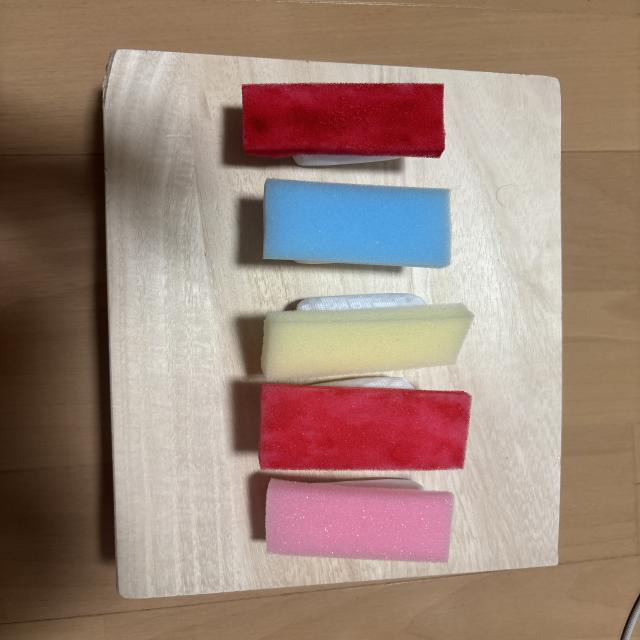NG: (261, 294, 473, 381)
ika: (263, 179, 451, 268)
maguro: (259, 377, 471, 470), (243, 83, 445, 167)
tai: (265, 478, 454, 562)
